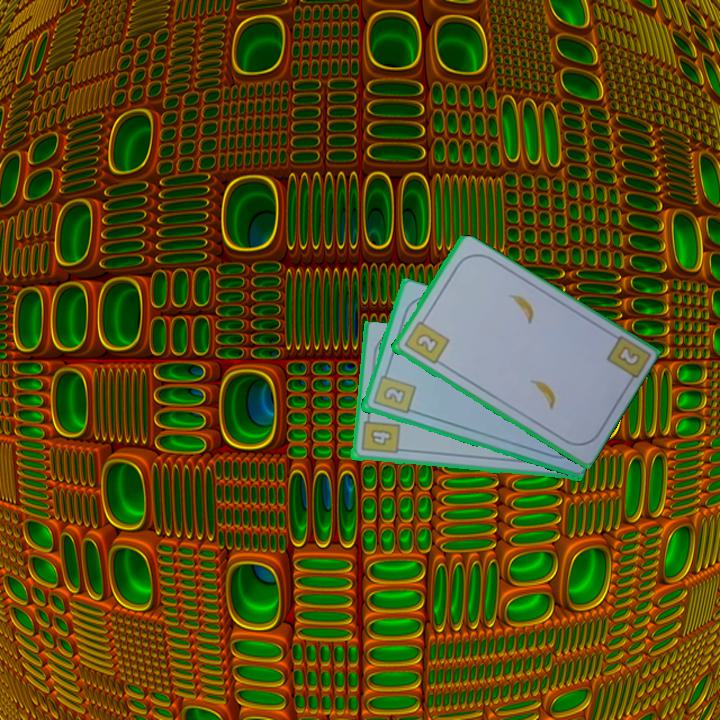2b: (400, 313, 452, 367), (369, 367, 418, 417), (613, 342, 643, 369)
4b: (357, 412, 402, 457)
